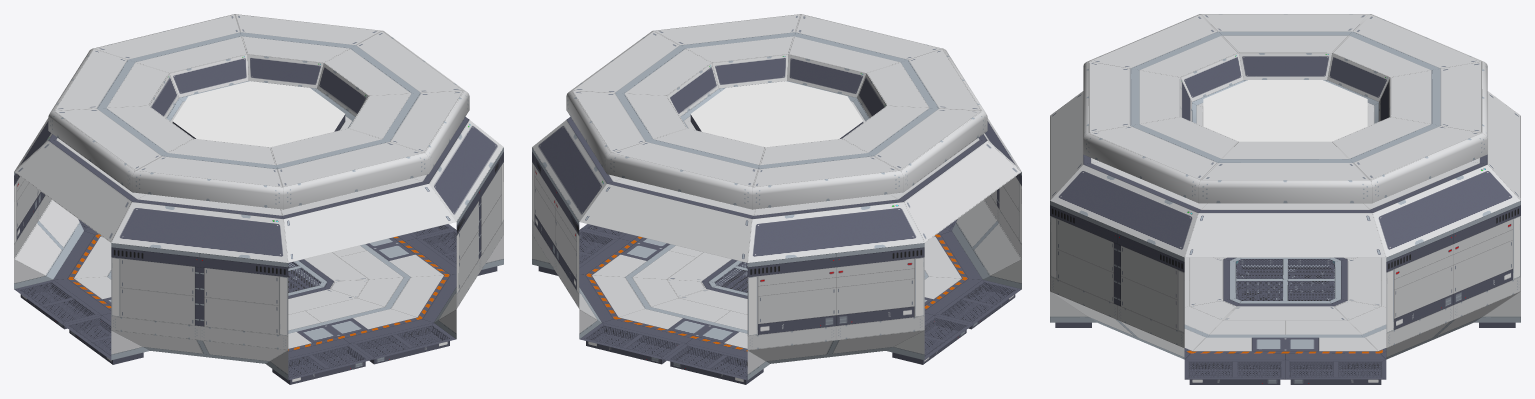
The model's file is Interior_Module_01.FBX.
The picture shows the model from 3 angles, left to right: view 1: azimuth 30°, elevation 25°; view 2: azimuth 150°, elevation 25°; view 3: azimuth 270°, elevation 25°; orthographic projection. The views are drawn at different scales.
Visible parts, largest first — view 1: Interior_Module_01; view 2: Interior_Module_01; view 3: Interior_Module_01.
Boxes of the visible parts, <box> form: Interior_Module_01: <box>14,14,503,384</box>; Interior_Module_01: <box>532,14,1021,384</box>; Interior_Module_01: <box>1050,14,1520,384</box>.
Size of the model in its own units: 14 by 6.25 by 14.
Materials: 3 (3 with a texture image).
